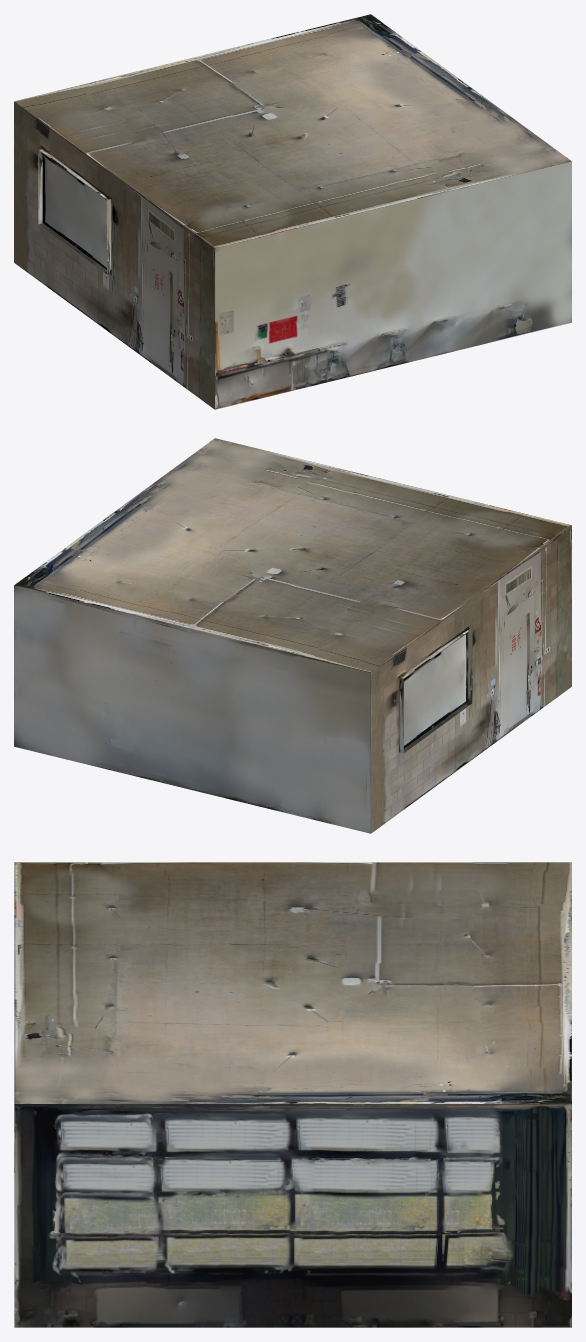
3 views of the same model, one above another, from view 1: azimuth 30°, elevation 25°; view 2: azimuth 150°, elevation 25°; view 3: azimuth 270°, elevation 25° (orthographic). The views are drawn at different scales.
Visible parts, largest first — view 1: M102b-IM; view 2: M102b-IM; view 3: M102b-IM.
Boxes of the visible parts, <box> form: M102b-IM: <box>14,14,571,409</box>; M102b-IM: <box>14,438,571,833</box>; M102b-IM: <box>14,862,571,1327</box>.
Bounding box in the file's own units: 749 × 323 × 722.
1 material, 1 textured.
